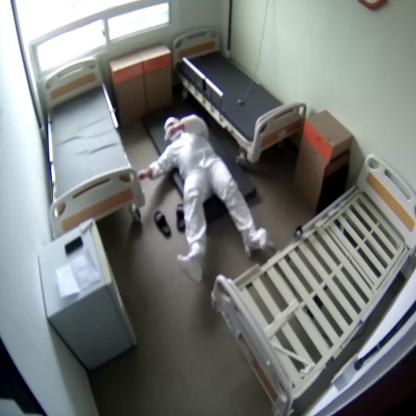Bed: (171, 27, 307, 164)
Person: (137, 116, 269, 285)
